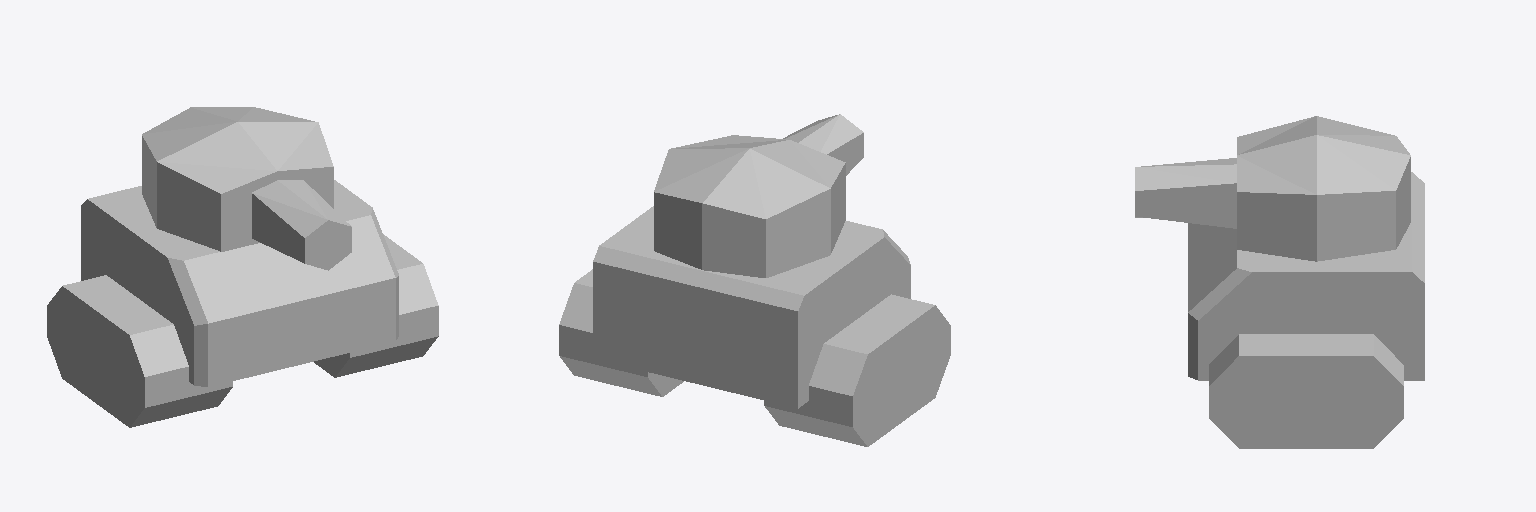
The model's file is tank.obj.
3 views of the same model, side by side, from view 1: azimuth 30°, elevation 25°; view 2: azimuth 150°, elevation 25°; view 3: azimuth 270°, elevation 25° (orthographic).
Visible parts, largest first — view 1: Cube; view 2: Cube; view 3: Cube.
Boxes of the visible parts, <box> form: Cube: <box>47,107,438,427</box>; Cube: <box>559,114,950,446</box>; Cube: <box>1135,116,1424,448</box>.
Bounding box in the file's own units: 1.43 × 1.13 × 1.22.